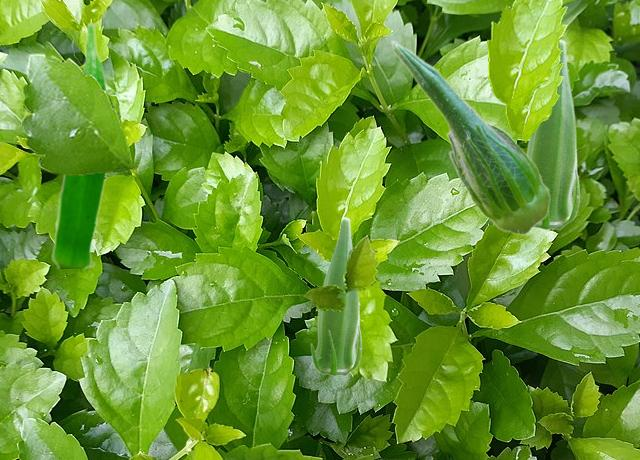okra: (390, 39, 550, 234), (51, 21, 110, 267), (526, 40, 579, 229), (310, 216, 361, 375)
